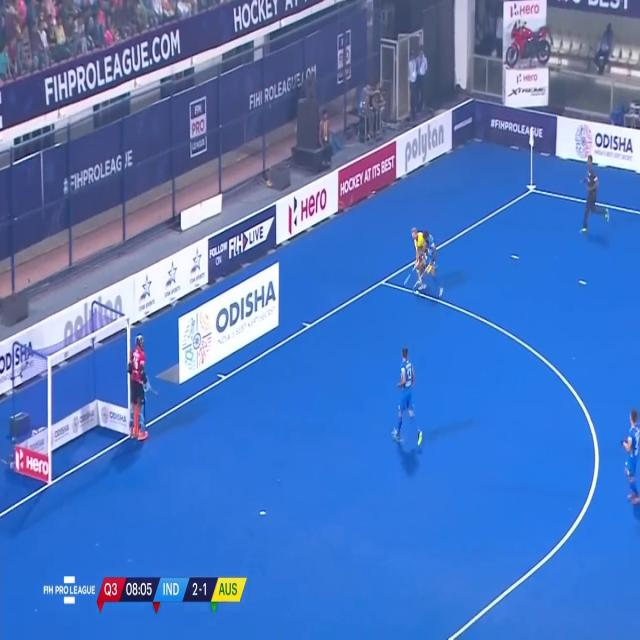ball: (414, 289, 421, 295)
